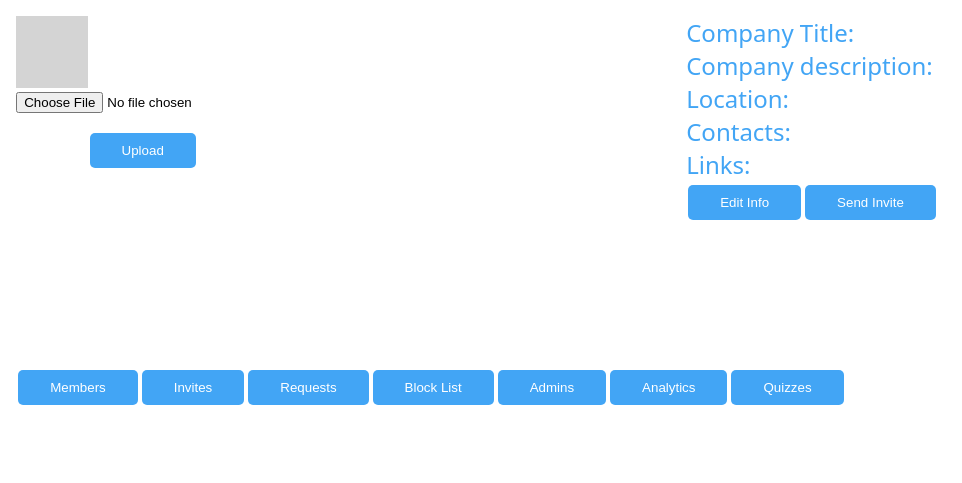
Test: CompanyContainer › renders CompanyProfileRequests when "blockList" button is clicked
This screenshot has width=962, height=483.
Step 1. Click the button "Block List" → click(433, 388), box [373,370,494,405]
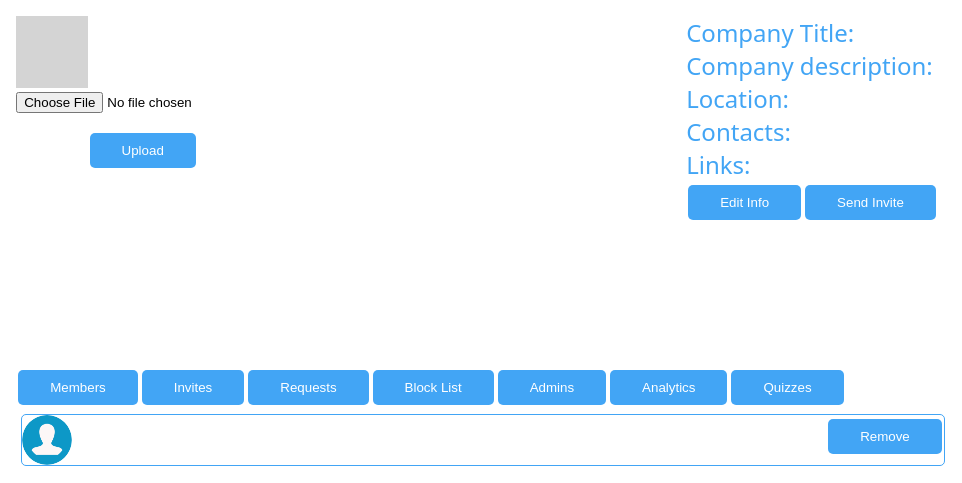
Check: the element with test id "company-profile-blockList" is shown, box [16,414,938,466]
